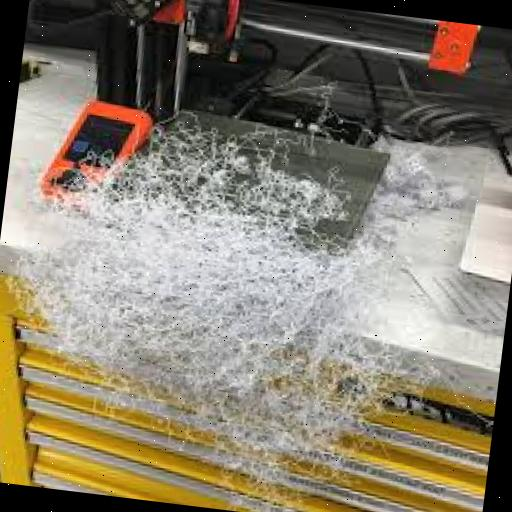spaghetti: (72, 147, 432, 460)
